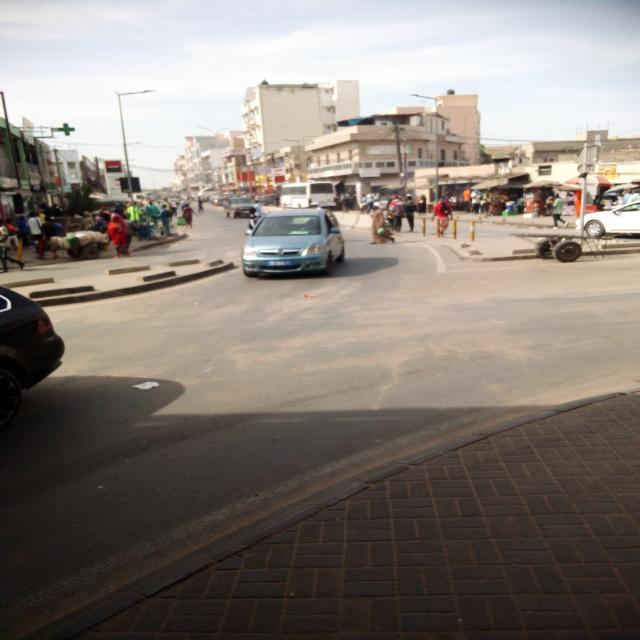bus tata: (277, 183, 340, 213)
particulier: (1, 268, 94, 438), (212, 204, 357, 292), (579, 199, 640, 245), (218, 196, 265, 220)
pousse pousse: (518, 231, 628, 264), (55, 236, 120, 261)
